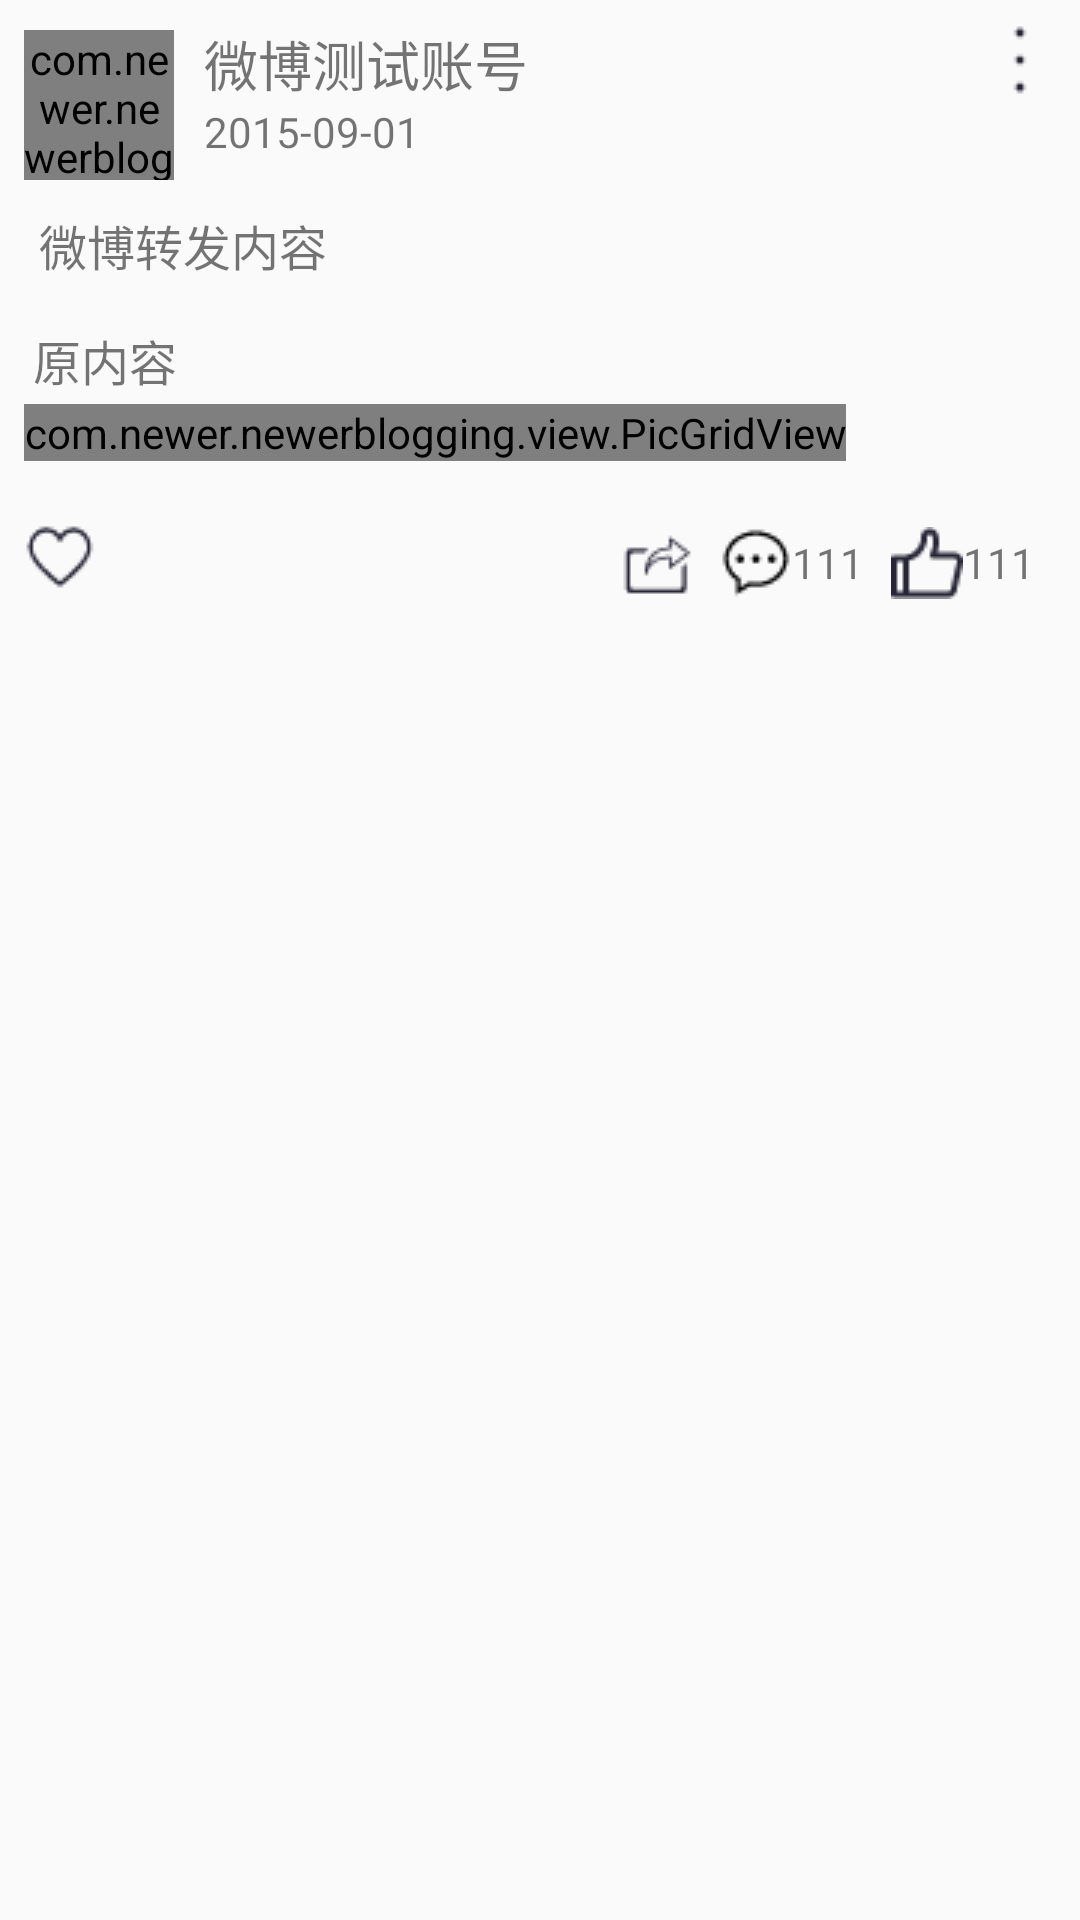

Locate icon controls on the screen. Image size 1080×1920, boxes as (x1, y1, x2, y2).
more: (1014, 26, 1026, 94)
